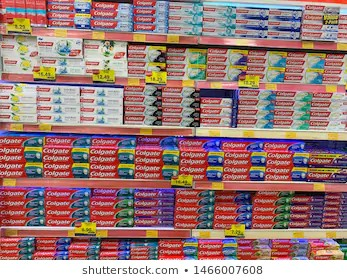colgate-family: (44, 146, 91, 164), (85, 41, 126, 61), (135, 147, 178, 166), (202, 63, 248, 80), (49, 10, 89, 29), (36, 41, 85, 56), (1, 146, 43, 163), (250, 48, 288, 66), (178, 166, 223, 181), (167, 46, 206, 63), (94, 147, 135, 163), (1, 162, 44, 177), (181, 151, 224, 166), (207, 49, 247, 65), (266, 152, 308, 167), (128, 61, 165, 78), (1, 57, 38, 74), (166, 64, 205, 80), (225, 166, 266, 181), (44, 166, 91, 179), (128, 46, 166, 62), (2, 40, 36, 57), (225, 152, 266, 166), (135, 167, 179, 180), (91, 166, 133, 179), (265, 168, 307, 181), (283, 70, 324, 83), (245, 67, 285, 80), (287, 52, 324, 65)
colgate-medium: (1, 186, 46, 200), (79, 110, 125, 123), (1, 207, 46, 218), (46, 210, 91, 221), (92, 20, 131, 32), (121, 103, 163, 114), (46, 199, 91, 209), (81, 86, 125, 96), (81, 95, 125, 105), (1, 199, 45, 209), (120, 114, 163, 124), (92, 197, 135, 207), (92, 208, 135, 218), (135, 218, 174, 229), (1, 111, 36, 123), (36, 87, 81, 96), (134, 191, 174, 201), (274, 100, 313, 110), (268, 19, 303, 30), (255, 202, 290, 213), (268, 7, 300, 19), (239, 91, 277, 101), (274, 110, 312, 120), (252, 195, 290, 205), (93, 218, 135, 227), (168, 24, 202, 35), (168, 5, 202, 16), (204, 14, 235, 26), (124, 86, 161, 96), (133, 201, 174, 210), (44, 188, 90, 196), (38, 113, 78, 122), (80, 105, 125, 113), (164, 89, 200, 99), (238, 109, 274, 119), (276, 120, 312, 130), (204, 26, 236, 37), (36, 96, 80, 104), (200, 116, 232, 127), (161, 107, 200, 116), (254, 213, 293, 222), (268, 30, 303, 40), (162, 116, 200, 125), (1, 84, 35, 94), (92, 189, 134, 197), (174, 221, 215, 229), (277, 91, 313, 100), (174, 213, 214, 221), (35, 106, 80, 113), (1, 219, 46, 226), (178, 189, 213, 198), (162, 99, 201, 107), (238, 101, 277, 109), (175, 205, 214, 213), (201, 106, 232, 116), (134, 16, 168, 25), (254, 221, 291, 229), (132, 211, 174, 218), (203, 5, 235, 14), (238, 119, 274, 127), (238, 7, 266, 17), (121, 96, 161, 103), (1, 96, 35, 104), (1, 102, 35, 110), (236, 28, 266, 37), (46, 221, 91, 227), (175, 198, 213, 205), (169, 16, 202, 24), (238, 18, 267, 27), (136, 25, 168, 33), (200, 98, 231, 106), (134, 1, 167, 8), (135, 10, 167, 16)
